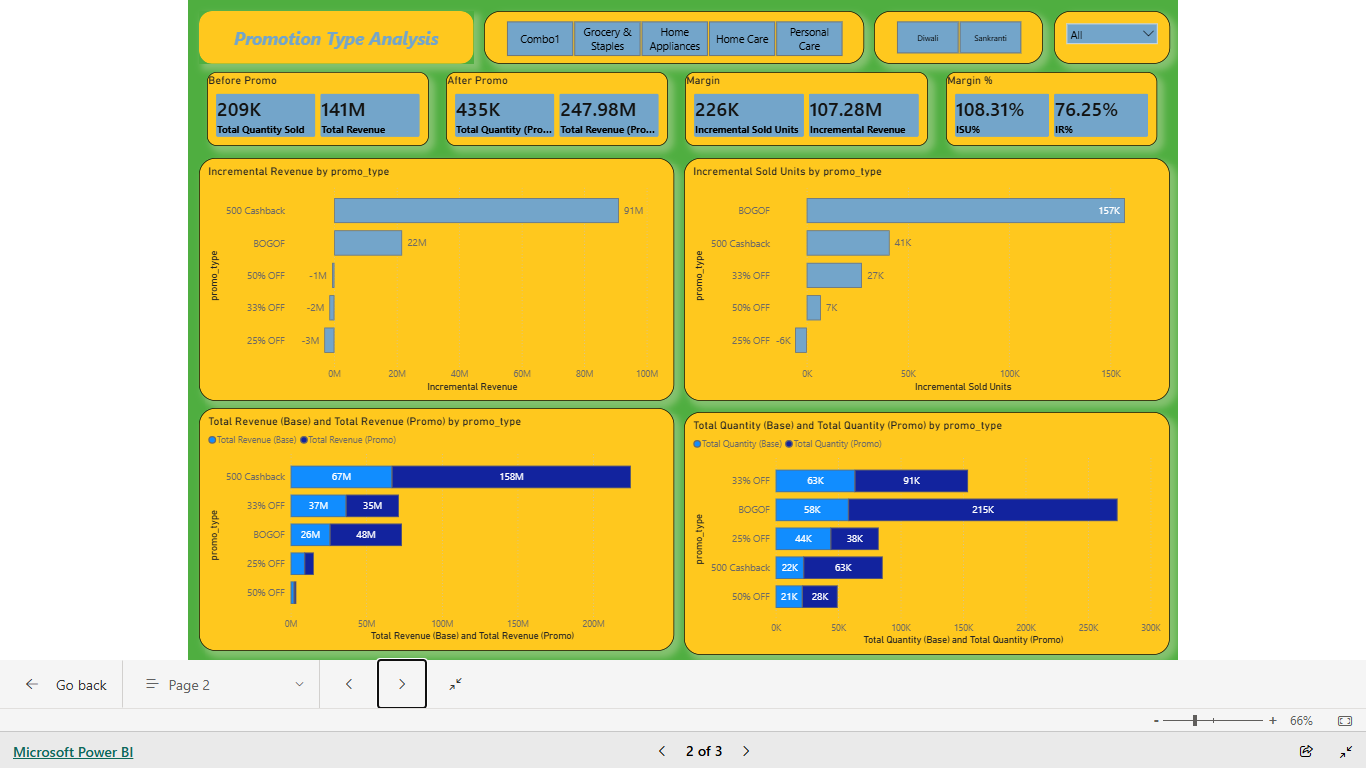

What the dashboard file says about the page in this screenshot:
{"tool":"powerbi","page":{"name":"Page 2","canvas":[1500,1000],"ordinal":1},"visuals":[{"type":"cardVisual","title":"Before Promo","fields":{"Data":["New_measures.Total Quantity (Base)","New_measures.Total Revenue (Base)"]},"box":[28.3,108.3,336,112],"z":4000},{"type":"shape","box":[16,16,416,80],"z":5000},{"type":"slicer","fields":{"Values":["dim_products.category"]},"box":[448,16,576,80],"z":6000},{"type":"slicer","fields":{"Values":["dim_stores.city"]},"box":[1312,16,176,80],"z":7000},{"type":"slicer","fields":{"Values":["dim_campaigns.campaign_name"]},"box":[1040,16,256,80],"z":8000},{"type":"cardVisual","title":"After Promo","fields":{"Data":["New_measures.Total Quantity (Promo)","New_measures.Total Revenue (Promo)"]},"box":[391,108.3,336,112],"z":9000},{"type":"cardVisual","title":"Margin","fields":{"Data":["New_measures.Incremental Sold Units","New_measures.Incremental Revenue"]},"box":[753.7,108.3,368,112],"z":10000},{"type":"cardVisual","title":"Margin %","fields":{"Data":["New_measures.ISU%","New_measures.IR%"]},"box":[1148.3,108.3,320,112],"z":11000},{"type":"clusteredBarChart","fields":{"Category":["fact_events.promo_type"],"Y":["New_measures.Incremental Revenue"]},"box":[16,240,720,368],"z":11001},{"type":"clusteredBarChart","fields":{"Category":["fact_events.promo_type"],"Y":["New_measures.Incremental Sold Units"]},"box":[752,240,736,368],"z":11002},{"type":"barChart","fields":{"Category":["fact_events.promo_type"],"Y":["New_measures.Total Revenue (Base)","New_measures.Total Revenue (Promo)"]},"box":[16,618,720,368],"z":11003},{"type":"barChart","fields":{"Category":["fact_events.promo_type"],"Y":["New_measures.Total Quantity (Base)","New_measures.Total Quantity (Promo)"]},"box":[752,624,736,368],"z":11004}]}

Visuals, with their boxes on the page's 1500x1000 design canvas (x1, y1, x2, y2). These are canvas units, not pixel positions in the 1366x768 screenshot, which may show the page scaled, cropped or inside an application window:
"Before Promo" cardVisual: (x1=28, y1=108, x2=364, y2=220)
shape: (x1=16, y1=16, x2=432, y2=96)
slicer - dim_products.category: (x1=448, y1=16, x2=1024, y2=96)
slicer - dim_stores.city: (x1=1312, y1=16, x2=1488, y2=96)
slicer - dim_campaigns.campaign_name: (x1=1040, y1=16, x2=1296, y2=96)
"After Promo" cardVisual: (x1=391, y1=108, x2=727, y2=220)
"Margin" cardVisual: (x1=754, y1=108, x2=1122, y2=220)
"Margin %" cardVisual: (x1=1148, y1=108, x2=1468, y2=220)
clusteredBarChart - fact_events.promo_type x New_measures.Incremental Revenue: (x1=16, y1=240, x2=736, y2=608)
clusteredBarChart - fact_events.promo_type x New_measures.Incremental Sold Units: (x1=752, y1=240, x2=1488, y2=608)
barChart - fact_events.promo_type x New_measures.Total Revenue (Base): (x1=16, y1=618, x2=736, y2=986)
barChart - fact_events.promo_type x New_measures.Total Quantity (Base): (x1=752, y1=624, x2=1488, y2=992)
